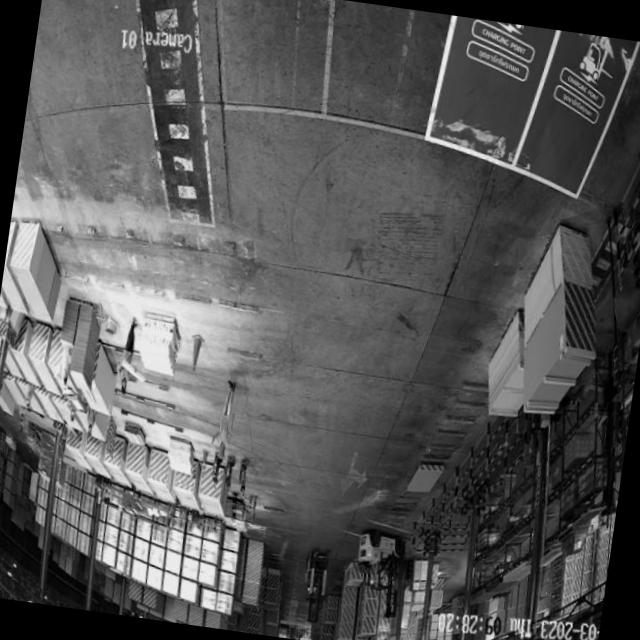forklift: (349, 526, 410, 600), (298, 548, 333, 610)
person: (206, 375, 244, 465), (109, 315, 142, 399), (82, 408, 98, 438), (22, 383, 36, 409)
